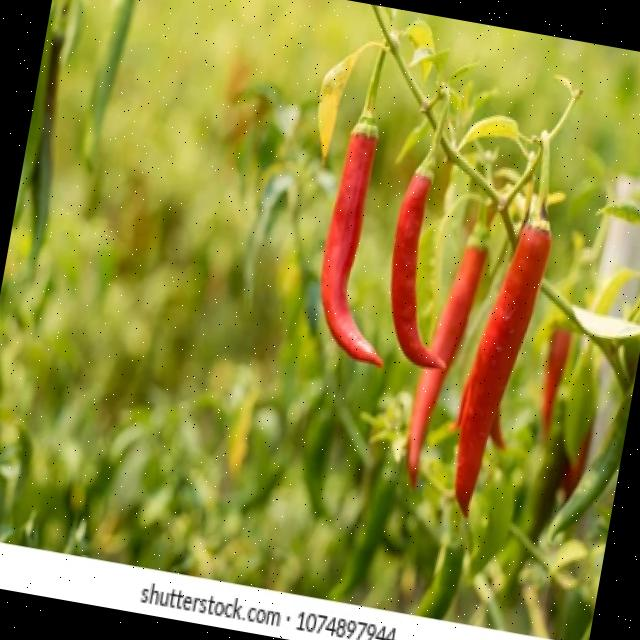chili: (454, 222, 552, 515), (406, 247, 484, 485), (391, 91, 449, 368), (321, 131, 380, 366)
